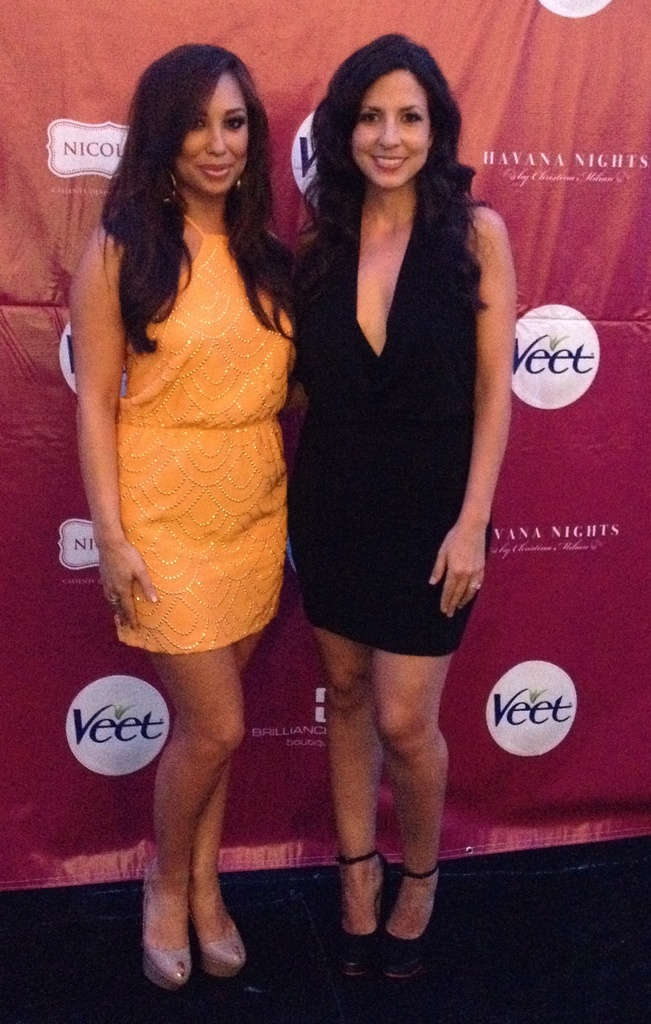Person: (69, 43, 296, 991), (296, 31, 516, 977)
